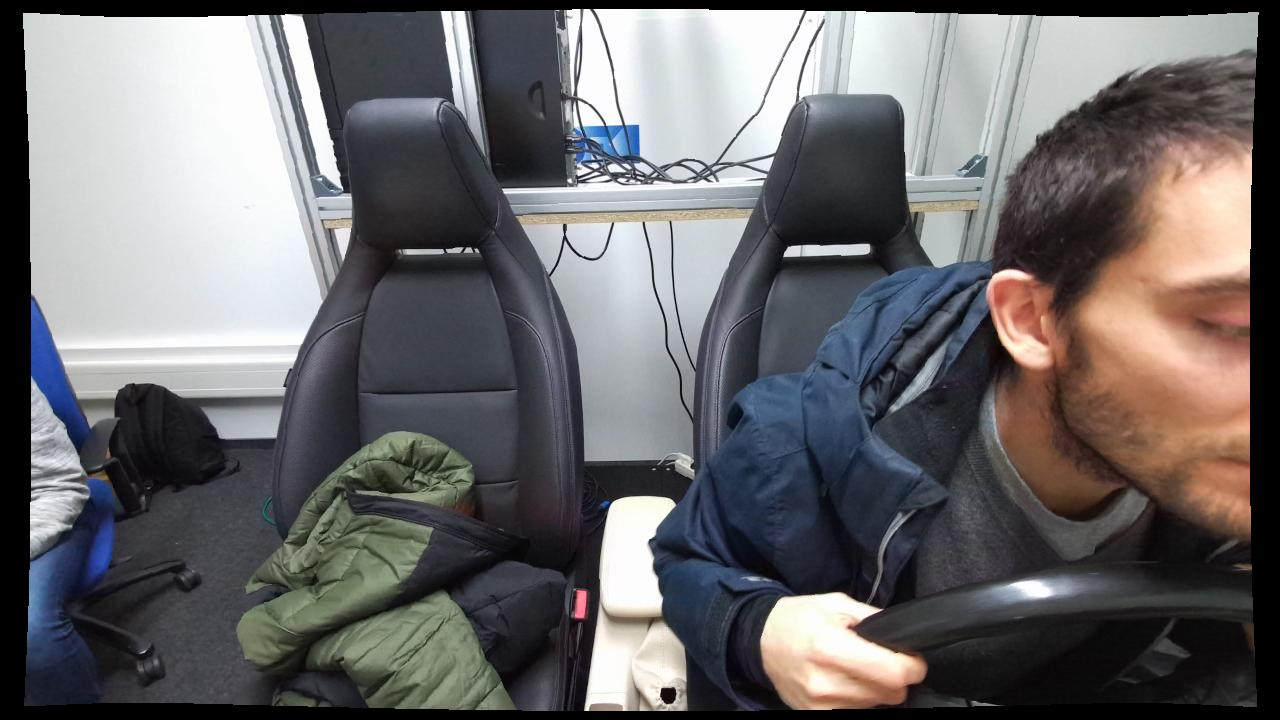Distracted: (654, 49, 1255, 715)
